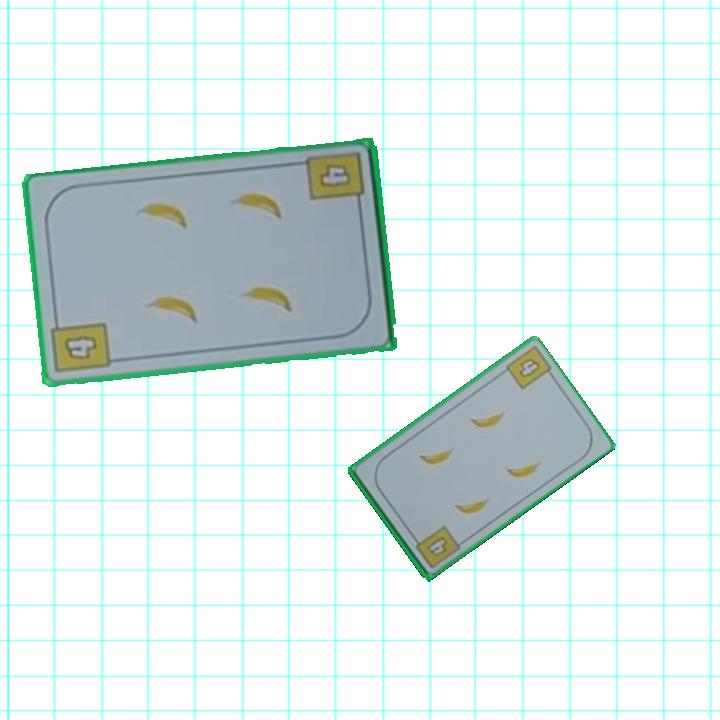4b: (48, 313, 113, 377), (304, 149, 368, 213), (409, 522, 463, 571), (516, 354, 544, 381)
